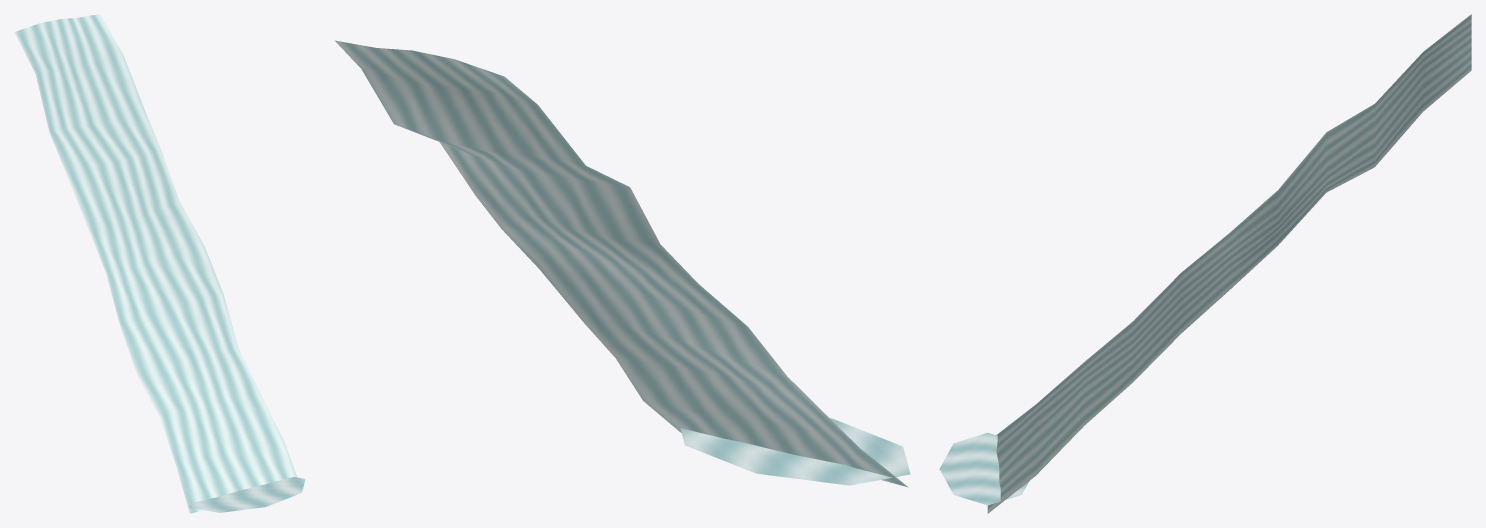
File: cascade-narrow-lod1.glb
The picture shows the model from 3 angles, left to right: view 1: azimuth 30°, elevation 25°; view 2: azimuth 150°, elevation 25°; view 3: azimuth 270°, elevation 25°; orthographic projection. The views are drawn at different scales.
Bounding box in the file's own units: 0.3564 × 1.01 × 1.1.
Materials: 1 (1 with a texture image).
